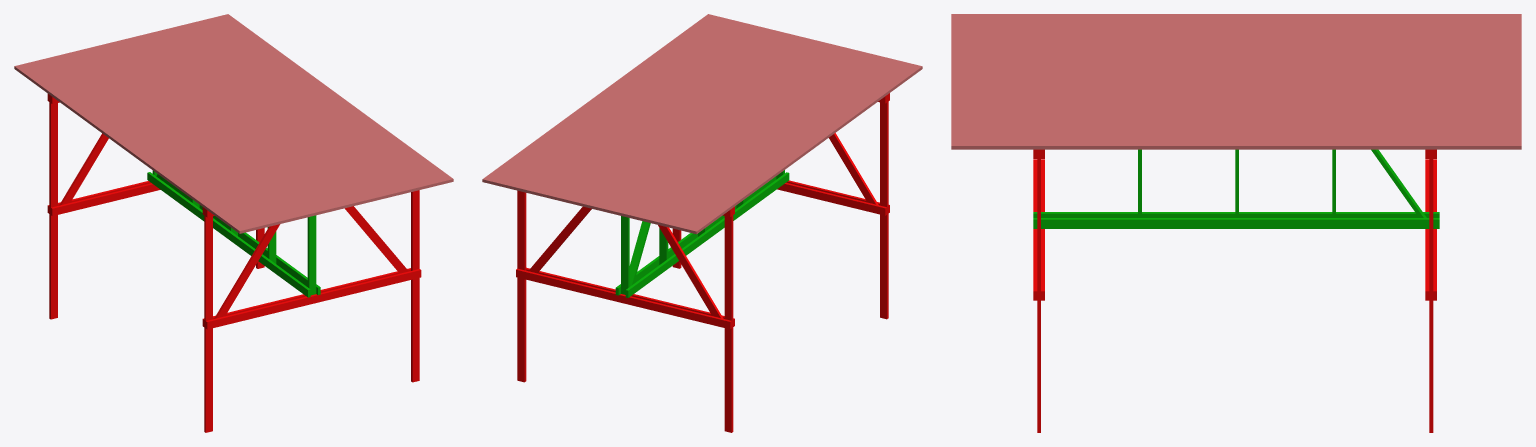
File: result.glb
3 views of the same model, side by side, from view 1: azimuth 30°, elevation 25°; view 2: azimuth 150°, elevation 25°; view 3: azimuth 270°, elevation 25° (orthographic). The views are drawn at different scales.
Visible parts, largest first — view 1: 3433fb4d-c388-4839-830d-7f390b138643__Box, f38156a9-773b-4fe5-8635-1cca87292551__sideH, 9ca6ccce-ec53-4c80-9df6-9e594cc808a8__undefined, 646deb24-cde2-4744-b94b-d28ca270b7eb__sideV, 0c681978-cc7c-4f14-bb5a-6a4d3e8c8602__undefined, 87c3df3a-f5c0-40f1-bde7-27996880e68f__undefined, 5150eff6-a58f-42d0-8073-a8dfe178c46e__undefined, 90f1637c-e4fa-486d-8e8d-0c9d2a7d5272__undefined, 470de227-166f-4425-a736-e7442f3cfc68__undefined, f6df3db5-f46c-491e-9d70-6087725f0ad0__undefined, 18e35290-ea9b-40be-990f-6bc2113b4e6f__undefined, 10e8368f-5fef-4b2c-8ece-a84911451572__undefined (+30 smaller); view 2: 3433fb4d-c388-4839-830d-7f390b138643__Box, 9ca6ccce-ec53-4c80-9df6-9e594cc808a8__undefined, d01fa392-5aa9-49d2-b19e-22f256ef91a0__undefined, 646deb24-cde2-4744-b94b-d28ca270b7eb__sideV, 4779b99a-5296-433d-b602-48b71e8481fc__undefined, c83789d5-85bf-409f-8fa4-cca5516442dd__undefined, 0c681978-cc7c-4f14-bb5a-6a4d3e8c8602__undefined, 93dc0540-5372-480a-aba4-b12d5105e560__undefined, c5cfdfef-a9f9-4694-9314-1e739f13296b__undefined, 470de227-166f-4425-a736-e7442f3cfc68__undefined, f6df3db5-f46c-491e-9d70-6087725f0ad0__undefined, 30f36fcb-6317-49e7-b04d-450d925c8876__undefined (+31 smaller); view 3: 6a60cfa1-4c10-4b03-a74e-be76fabc7440__undefined, 736c2bbe-8c20-471a-8d8c-0ab12cfb3dd3__strutH, c83789d5-85bf-409f-8fa4-cca5516442dd__undefined, 7a35989d-e330-42c5-b213-ca10169e8bc8__undefined, 3433fb4d-c388-4839-830d-7f390b138643__Box, fb5619bd-db4c-4840-9fe2-672a634de502__undefined, 0c681978-cc7c-4f14-bb5a-6a4d3e8c8602__undefined, 93dc0540-5372-480a-aba4-b12d5105e560__undefined, 10e8368f-5fef-4b2c-8ece-a84911451572__undefined, c5cfdfef-a9f9-4694-9314-1e739f13296b__undefined, b4048b5a-29d6-4351-9b97-f8c6a8b9f8ee__undefined, 3c5cefd4-86f9-4eba-8857-48713ef7fcf6__undefined (+25 smaller).
Part boxes in pixels (left/top/right/bottom): 3433fb4d-c388-4839-830d-7f390b138643__Box: left=14, top=64, right=246, bottom=233; f38156a9-773b-4fe5-8635-1cca87292551__sideH: left=205, top=269, right=421, bottom=329; 9ca6ccce-ec53-4c80-9df6-9e594cc808a8__undefined: left=49, top=95, right=57, bottom=319; 646deb24-cde2-4744-b94b-d28ca270b7eb__sideV: left=204, top=208, right=212, bottom=432; 0c681978-cc7c-4f14-bb5a-6a4d3e8c8602__undefined: left=36, top=59, right=268, bottom=228; 87c3df3a-f5c0-40f1-bde7-27996880e68f__undefined: left=121, top=38, right=353, bottom=207; 5150eff6-a58f-42d0-8073-a8dfe178c46e__undefined: left=157, top=29, right=389, bottom=198; 90f1637c-e4fa-486d-8e8d-0c9d2a7d5272__undefined: left=200, top=19, right=432, bottom=188; 470de227-166f-4425-a736-e7442f3cfc68__undefined: left=86, top=47, right=318, bottom=216; f6df3db5-f46c-491e-9d70-6087725f0ad0__undefined: left=93, top=45, right=325, bottom=214; 18e35290-ea9b-40be-990f-6bc2113b4e6f__undefined: left=164, top=28, right=396, bottom=197; 10e8368f-5fef-4b2c-8ece-a84911451572__undefined: left=50, top=56, right=282, bottom=225; 3433fb4d-c388-4839-830d-7f390b138643__Box: left=689, top=64, right=922, bottom=234; 9ca6ccce-ec53-4c80-9df6-9e594cc808a8__undefined: left=724, top=208, right=733, bottom=432; d01fa392-5aa9-49d2-b19e-22f256ef91a0__undefined: left=516, top=268, right=731, bottom=329; 646deb24-cde2-4744-b94b-d28ca270b7eb__sideV: left=880, top=94, right=888, bottom=319; 4779b99a-5296-433d-b602-48b71e8481fc__undefined: left=517, top=190, right=526, bottom=382; c83789d5-85bf-409f-8fa4-cca5516442dd__undefined: left=675, top=61, right=907, bottom=230; 0c681978-cc7c-4f14-bb5a-6a4d3e8c8602__undefined: left=668, top=59, right=900, bottom=228; 93dc0540-5372-480a-aba4-b12d5105e560__undefined: left=661, top=57, right=893, bottom=227; c5cfdfef-a9f9-4694-9314-1e739f13296b__undefined: left=646, top=54, right=879, bottom=223; 470de227-166f-4425-a736-e7442f3cfc68__undefined: left=618, top=47, right=850, bottom=216; f6df3db5-f46c-491e-9d70-6087725f0ad0__undefined: left=611, top=45, right=843, bottom=214; 30f36fcb-6317-49e7-b04d-450d925c8876__undefined: left=532, top=26, right=764, bottom=195; 6a60cfa1-4c10-4b03-a74e-be76fabc7440__undefined: left=951, top=141, right=1521, bottom=149; 736c2bbe-8c20-471a-8d8c-0ab12cfb3dd3__strutH: left=1033, top=218, right=1439, bottom=228; c83789d5-85bf-409f-8fa4-cca5516442dd__undefined: left=951, top=22, right=1521, bottom=27; 7a35989d-e330-42c5-b213-ca10169e8bc8__undefined: left=951, top=44, right=1521, bottom=49; 3433fb4d-c388-4839-830d-7f390b138643__Box: left=951, top=14, right=1521, bottom=18; fb5619bd-db4c-4840-9fe2-672a634de502__undefined: left=951, top=18, right=1521, bottom=22; 0c681978-cc7c-4f14-bb5a-6a4d3e8c8602__undefined: left=951, top=27, right=1521, bottom=31; 93dc0540-5372-480a-aba4-b12d5105e560__undefined: left=951, top=31, right=1521, bottom=35; 10e8368f-5fef-4b2c-8ece-a84911451572__undefined: left=951, top=36, right=1521, bottom=40; c5cfdfef-a9f9-4694-9314-1e739f13296b__undefined: left=951, top=40, right=1521, bottom=44; b4048b5a-29d6-4351-9b97-f8c6a8b9f8ee__undefined: left=951, top=49, right=1521, bottom=53; 3c5cefd4-86f9-4eba-8857-48713ef7fcf6__undefined: left=951, top=53, right=1521, bottom=57.
Bounding box in the file's own units: 1200 × 1215 × 2190.
